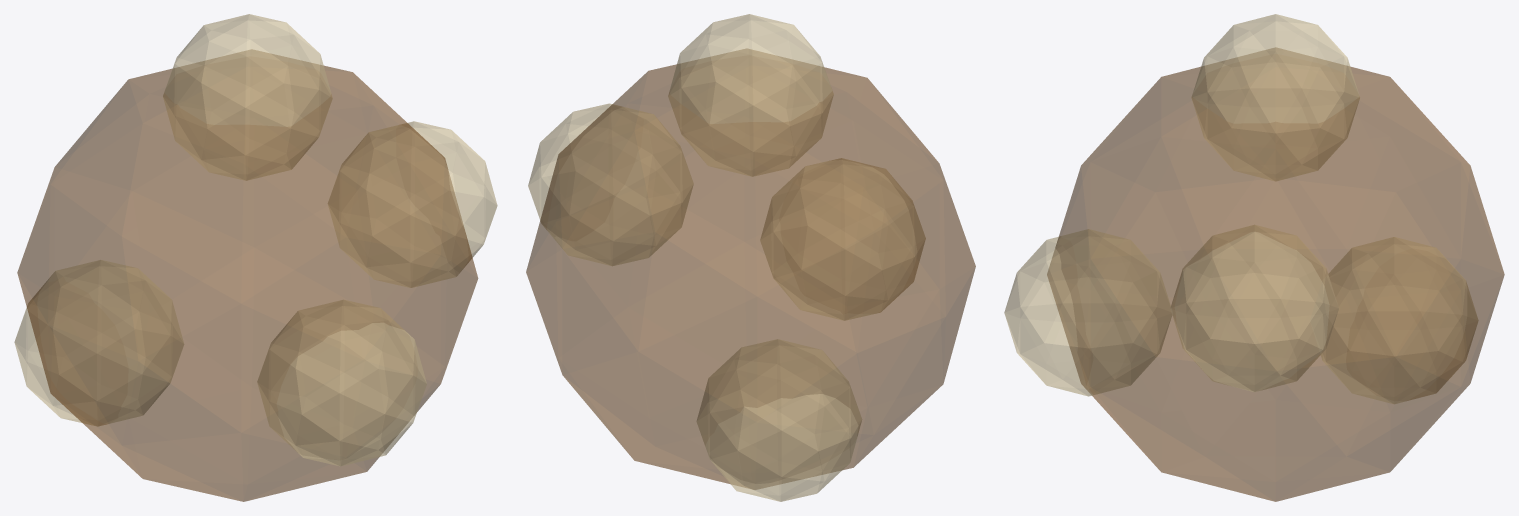
The model's file is Cell_Fat.fbx.
The picture shows the model from 3 angles, left to right: view 1: azimuth 30°, elevation 25°; view 2: azimuth 150°, elevation 25°; view 3: azimuth 270°, elevation 25°; orthographic projection. The views are drawn at different scales.
Parts seen in each view (by area): view 1: Fat, Sphère_1, Sphère_2, Sphère_4, Sphère_3; view 2: Fat, Sphère_3, Sphère_1, Sphère_4, Sphère_2; view 3: Fat, Sphère_1, Sphère_2, Sphère_4, Sphère_3.
Boxes of the visible parts, left/top/right/bottom form: Fat: left=17, top=50, right=478, bottom=501; Sphère_1: left=163, top=14, right=332, bottom=180; Sphère_2: left=257, top=300, right=426, bottom=466; Sphère_4: left=328, top=121, right=497, bottom=287; Sphère_3: left=14, top=260, right=183, bottom=426; Fat: left=526, top=49, right=975, bottom=489; Sphère_3: left=696, top=339, right=861, bottom=501; Sphère_1: left=668, top=14, right=833, bottom=176; Sphère_4: left=528, top=103, right=693, bottom=265; Sphère_2: left=760, top=158, right=925, bottom=320; Fat: left=1047, top=48, right=1504, bottom=501; Sphère_1: left=1191, top=14, right=1359, bottom=181; Sphère_2: left=1004, top=229, right=1171, bottom=396; Sphère_4: left=1170, top=225, right=1338, bottom=392; Sphère_3: left=1321, top=237, right=1478, bottom=403.
Bounding box in the file's own units: 285 × 296 × 291.
